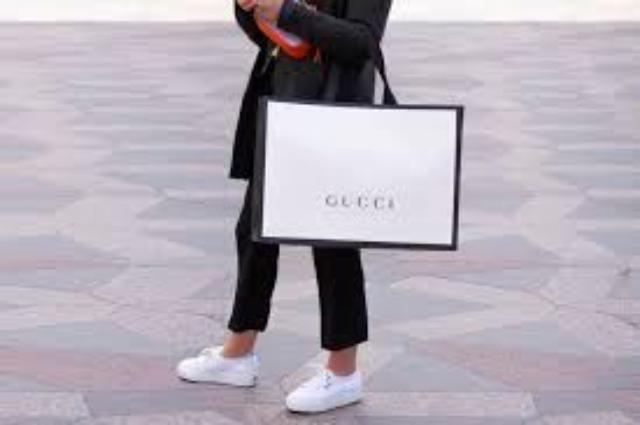Gucci: (314, 186, 400, 220)
